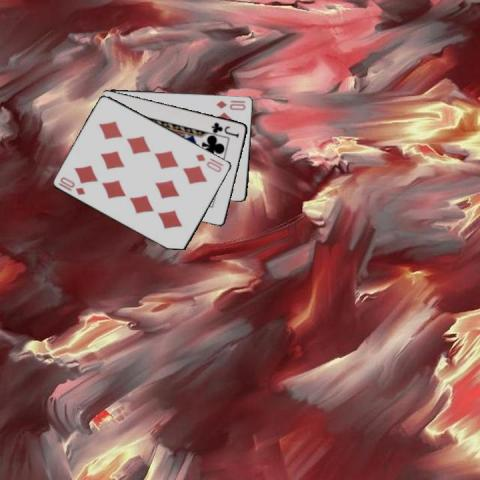10d: (57, 174, 87, 197), (194, 151, 224, 173), (214, 98, 248, 112)
Jc: (208, 119, 241, 138)
